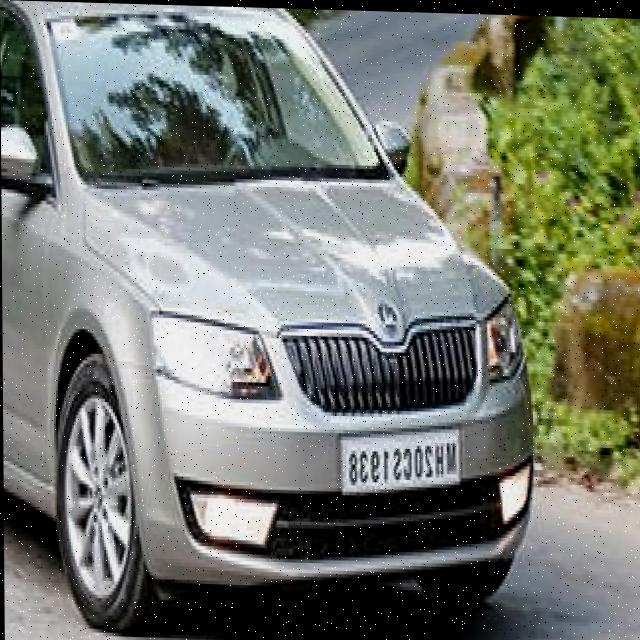plate: (338, 418, 464, 496)
